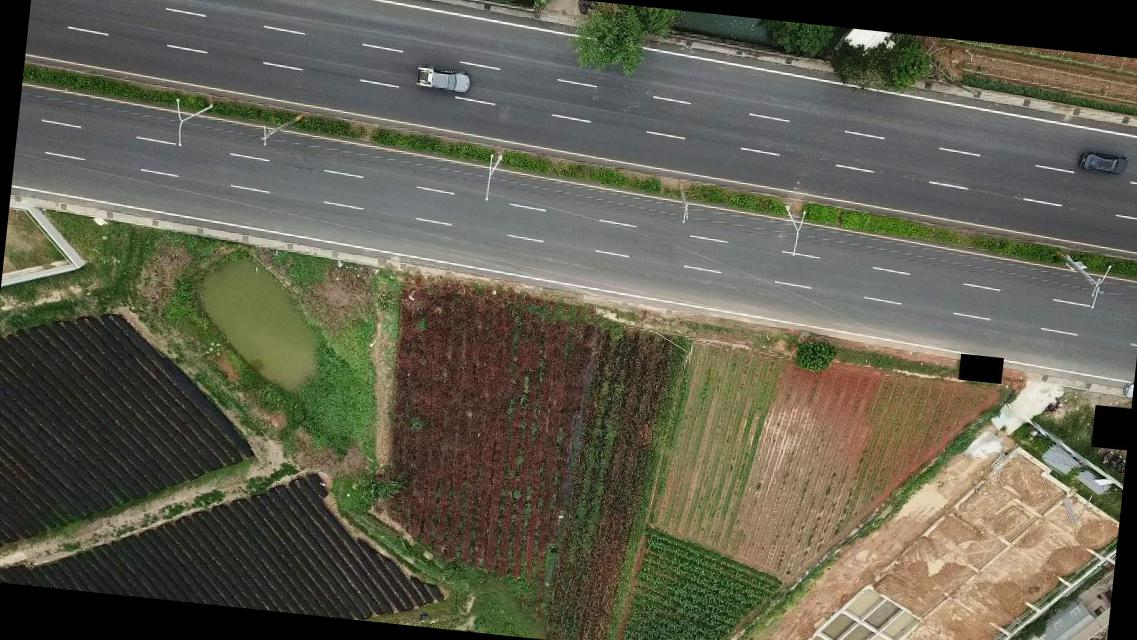vehicle: (412, 62, 471, 94), (1076, 148, 1128, 176)
